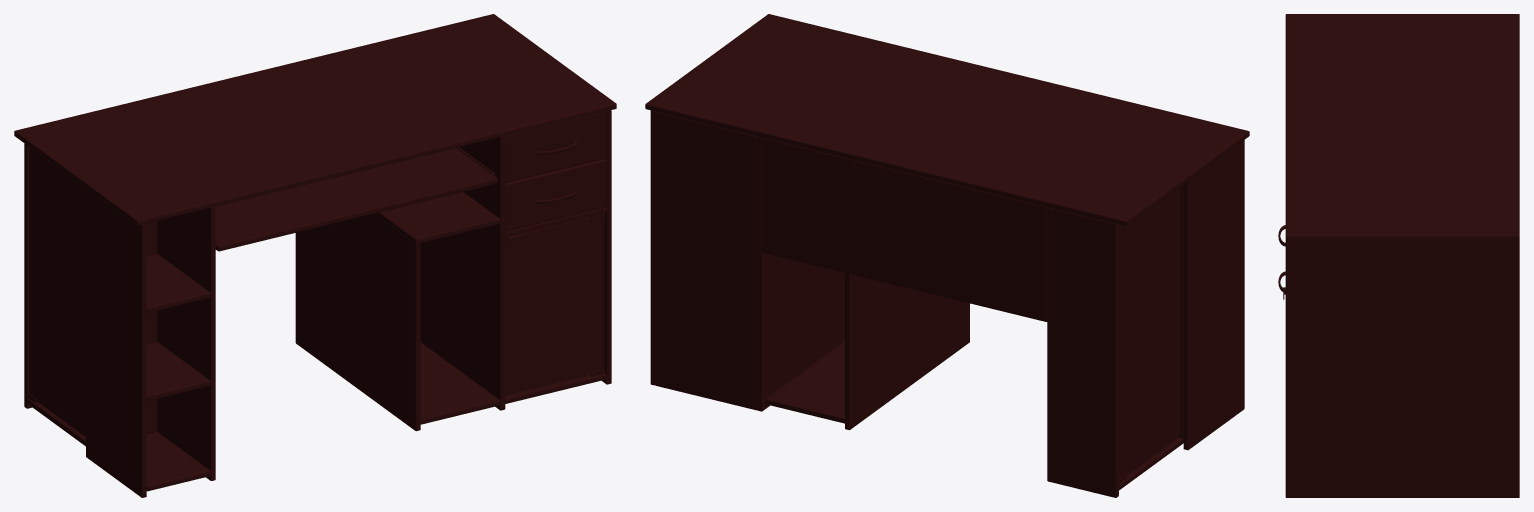
Rendered from desk_03.FBX.
3 views of the same model, side by side, from view 1: azimuth 30°, elevation 25°; view 2: azimuth 150°, elevation 25°; view 3: azimuth 270°, elevation 25° (orthographic). The views are drawn at different scales.
Parts seen in each view (by area): view 1: Desk_001; view 2: Desk_001; view 3: Desk_001.
Boxes of the visible parts, <box> form: Desk_001: <box>14,14,616,497</box>; Desk_001: <box>645,14,1249,497</box>; Desk_001: <box>1278,14,1519,497</box>.
Bounding box in the file's own units: 135 × 61.91 × 74.94.
